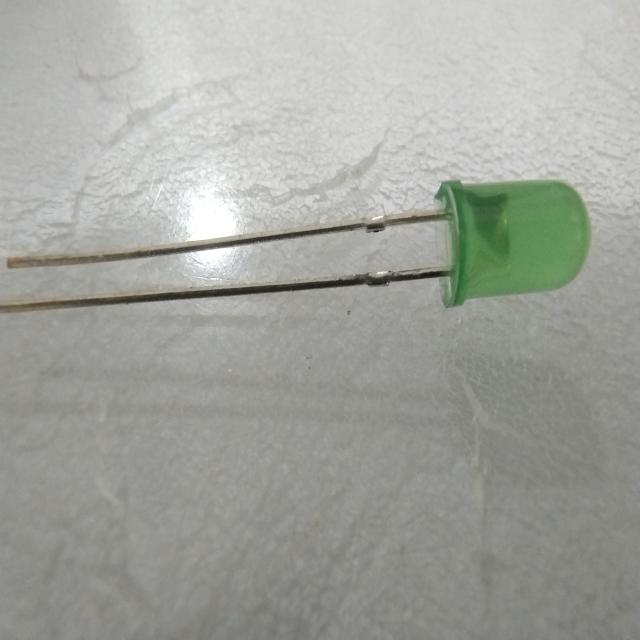green_led: (429, 158, 596, 316)
